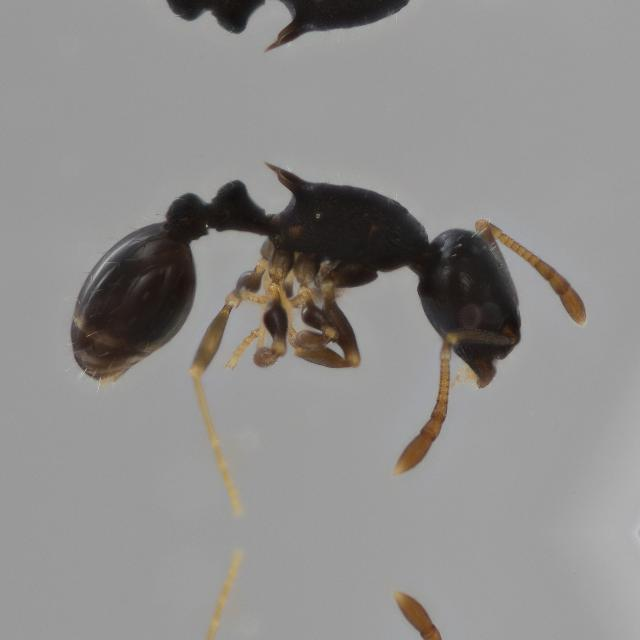Temnothorax: (25, 130, 627, 446), (25, 0, 627, 82)
